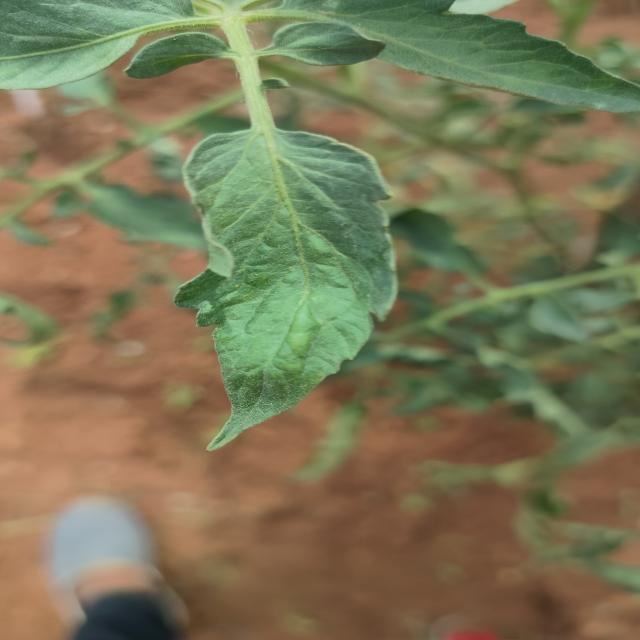tomato_healthy: (176, 130, 406, 448)
